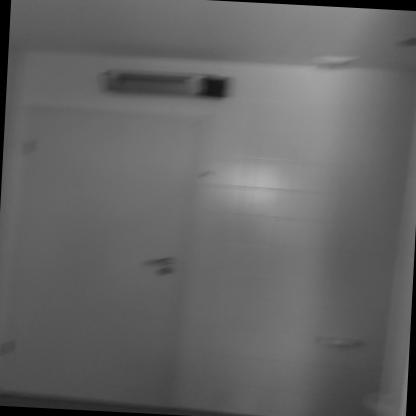closed: (0, 91, 222, 404)
